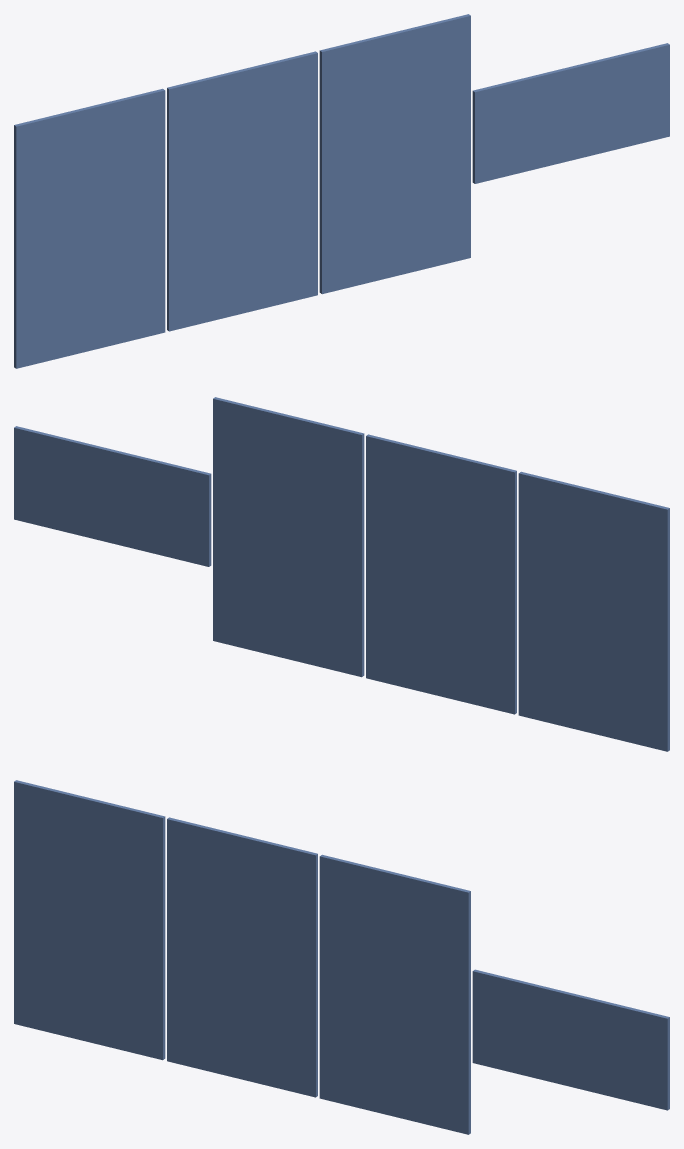
Rendered from JA3_Victron190_longitudinal.glb.
The picture shows the model from 3 angles, top to bottom: view 1: azimuth 30°, elevation 25°; view 2: azimuth 150°, elevation 25°; view 3: azimuth 330°, elevation 25°; orthographic projection.
Parts seen in each view (by area): view 1: PV__0_JA_0, PV__2_JA_2, PV__1_JA_1, PV__3_190W; view 2: PV__0_JA_0, PV__2_JA_2, PV__1_JA_1, PV__3_190W; view 3: PV__0_JA_0, PV__2_JA_2, PV__1_JA_1, PV__3_190W.
Boxes of the visible parts, box(x1,y1,x2,y2) form: PV__0_JA_0: box(14, 88, 165, 368); PV__2_JA_2: box(319, 14, 470, 294); PV__1_JA_1: box(167, 51, 317, 331); PV__3_190W: box(472, 43, 669, 183); PV__0_JA_0: box(518, 471, 669, 751); PV__2_JA_2: box(213, 397, 364, 677); PV__1_JA_1: box(366, 434, 516, 714); PV__3_190W: box(14, 426, 211, 566); PV__0_JA_0: box(14, 780, 165, 1060); PV__2_JA_2: box(319, 854, 470, 1134); PV__1_JA_1: box(167, 817, 317, 1097); PV__3_190W: box(472, 969, 669, 1110).
Bounding box in the file's own units: 4.98 × 1.76 × 0.03.
